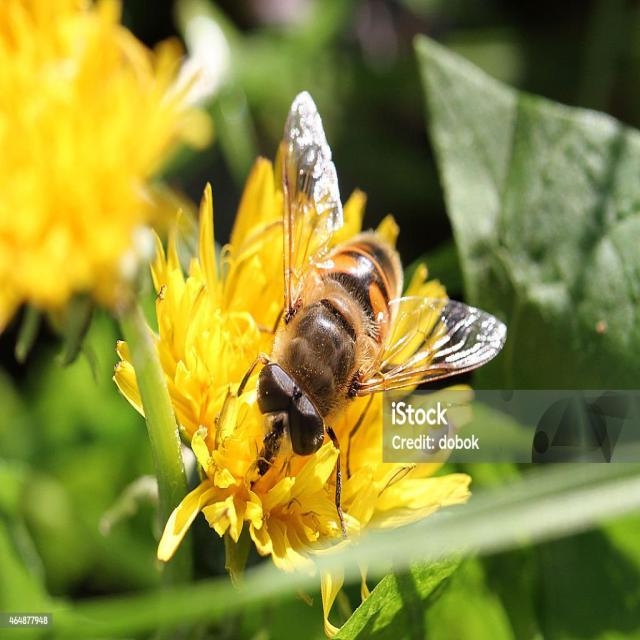hoverfly: (235, 88, 510, 542)
